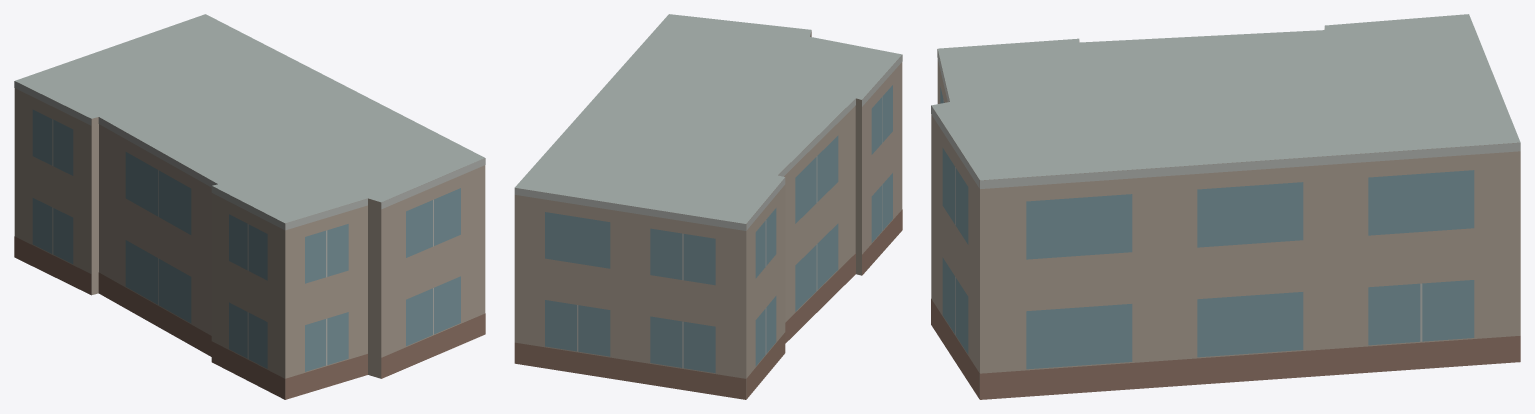
The model's file is survey-upis-32656435.glb.
3 renders of one model, left to right at view 1: azimuth 30°, elevation 25°; view 2: azimuth 150°, elevation 25°; view 3: azimuth 270°, elevation 25°, orthographic. The views are drawn at different scales.
Parts seen in each view (by area): view 1: survey-upis-32656435.tmp; view 2: survey-upis-32656435.tmp; view 3: survey-upis-32656435.tmp.
Boxes of the visible parts, x1,y1,x2,y2 form: survey-upis-32656435.tmp: [14, 14, 485, 399]; survey-upis-32656435.tmp: [514, 14, 902, 399]; survey-upis-32656435.tmp: [931, 14, 1520, 399].
Bounding box in the file's own units: 9.93 × 6.1 × 14.86.
